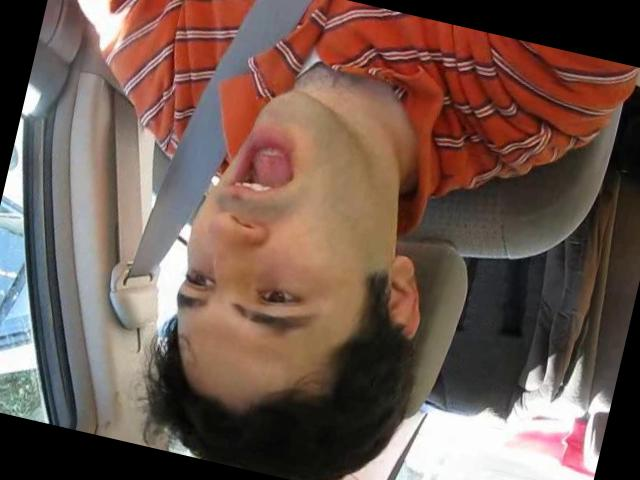eye_open: (249, 276, 309, 316), (176, 260, 220, 298)
face: (160, 72, 402, 372)
mouth_open: (218, 123, 308, 209)
